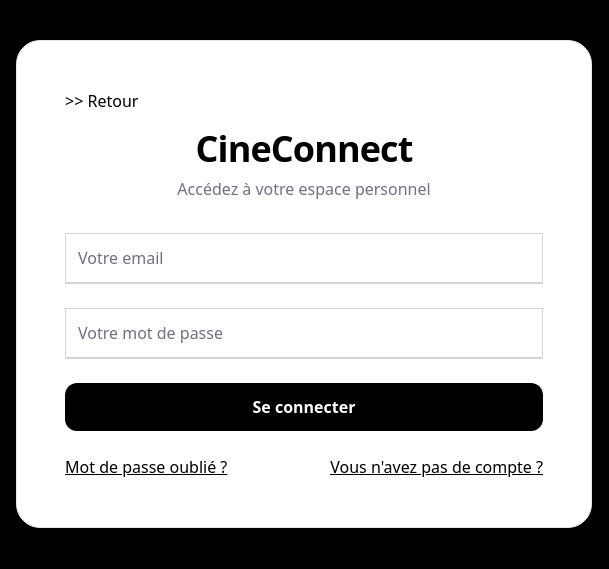
Login › devrait afficher un message si champs vides
The image size is (609, 569).
Click the button "Se connecter": (304, 407) left=65, top=383, right=543, bottom=431
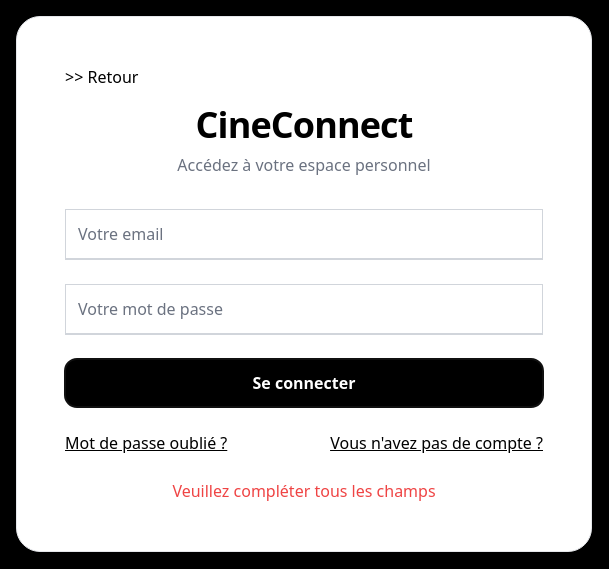
Now the text "Veuillez compléter tous les champs" is shown, box left=172, top=480, right=436, bottom=502
